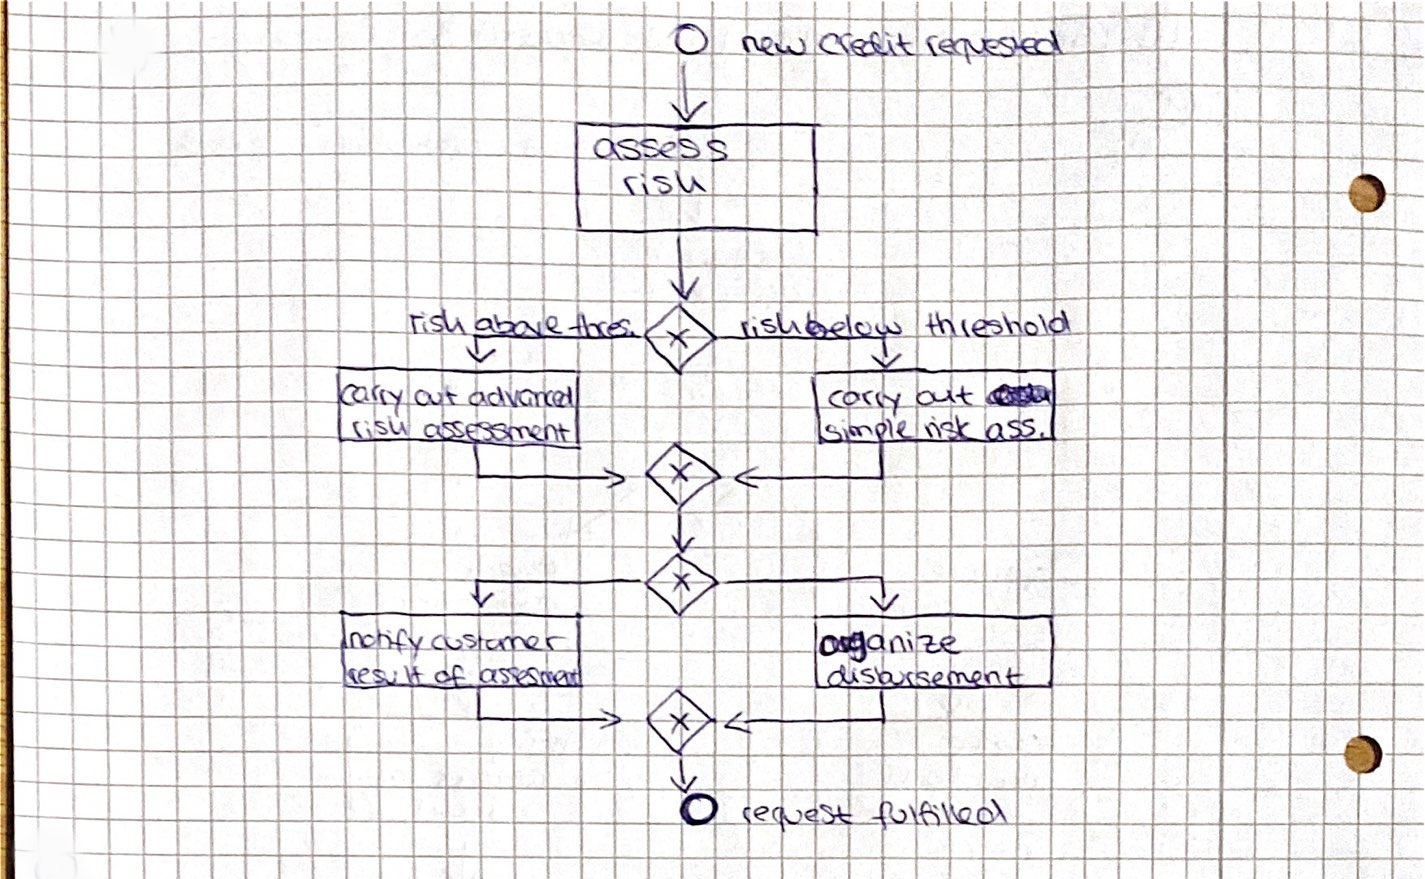above: (469, 309, 567, 344)
advanced: (462, 379, 580, 414)
ass.: (980, 414, 1049, 447)
assesment: (474, 661, 585, 692)
assess: (586, 128, 735, 170)
assessment: (416, 415, 574, 450)
below: (798, 304, 909, 345)
carry: (332, 377, 409, 425), (821, 383, 907, 425)
credit: (812, 23, 921, 65)
customer: (425, 625, 574, 659)
disbursement: (821, 659, 1030, 693)
fulfilled: (863, 792, 1015, 836)
new: (732, 26, 815, 64)
notify: (344, 623, 427, 665)
of: (429, 660, 472, 693)
organize: (812, 624, 969, 669)
out: (908, 377, 982, 414), (409, 379, 462, 411)
request: (733, 796, 861, 838)
requested: (916, 20, 1070, 72)
result: (342, 660, 429, 690)
risk: (615, 163, 712, 204), (735, 305, 807, 343), (402, 303, 472, 341), (346, 409, 414, 446), (919, 409, 982, 446)
simple: (814, 412, 919, 449)
thres.: (563, 306, 641, 345)
threshold: (918, 304, 1077, 344)
